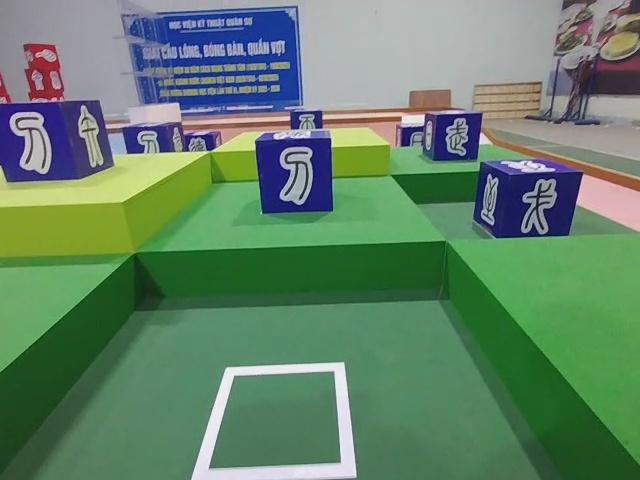R2 Fake Blue: (0, 102, 114, 188), (476, 161, 586, 242), (254, 130, 334, 215), (422, 112, 480, 165), (121, 123, 184, 157), (396, 124, 427, 150), (288, 109, 322, 131)
